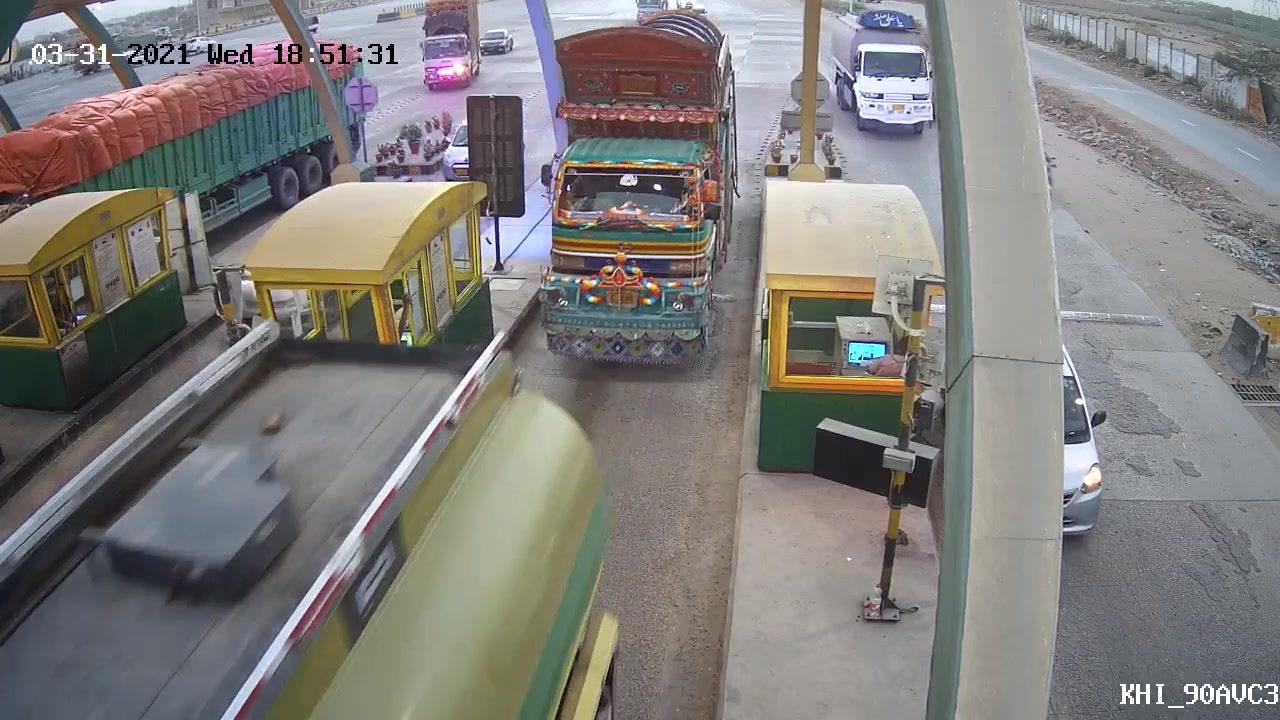F5: (529, 15, 744, 377)
